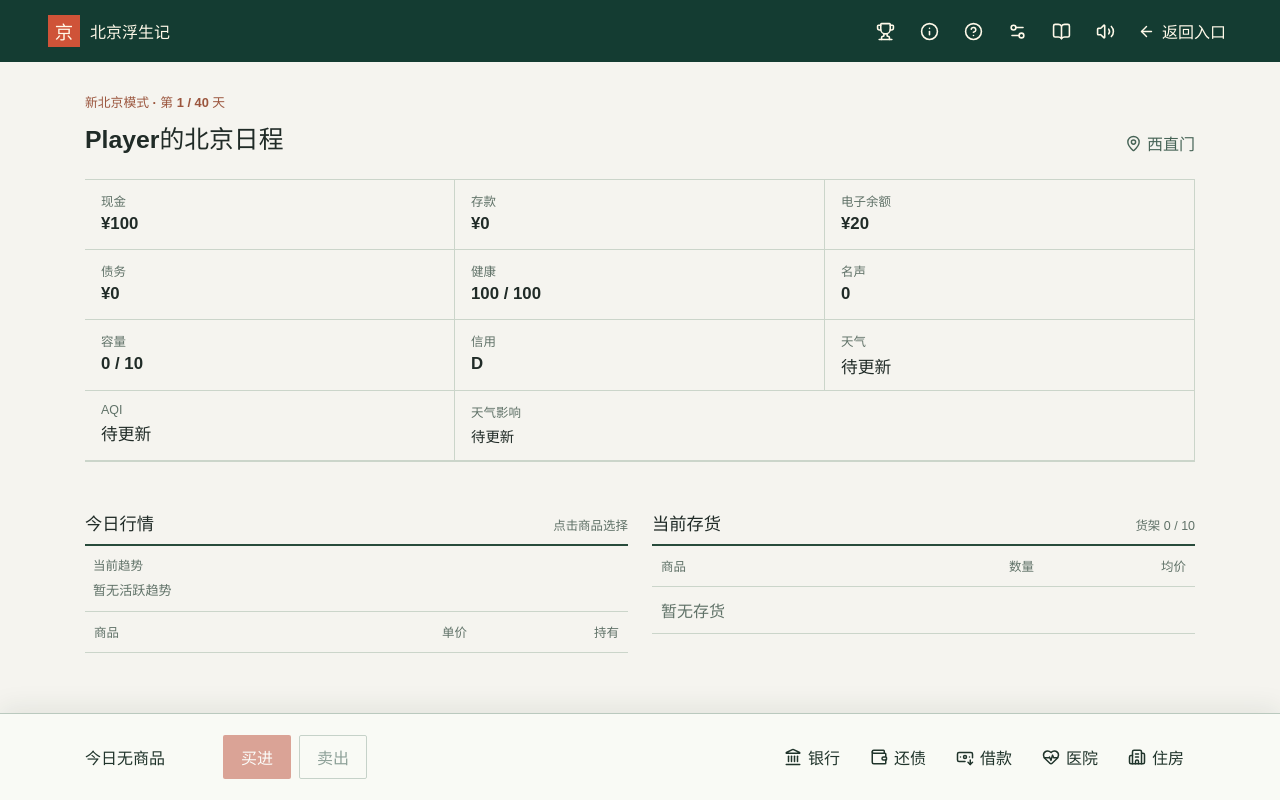
ServiceDialog › transfers accounts and reports rejected transfers
This screenshot has width=1280, height=800.
Click the button "银行": coordinates (812, 757) [773, 735, 851, 779]
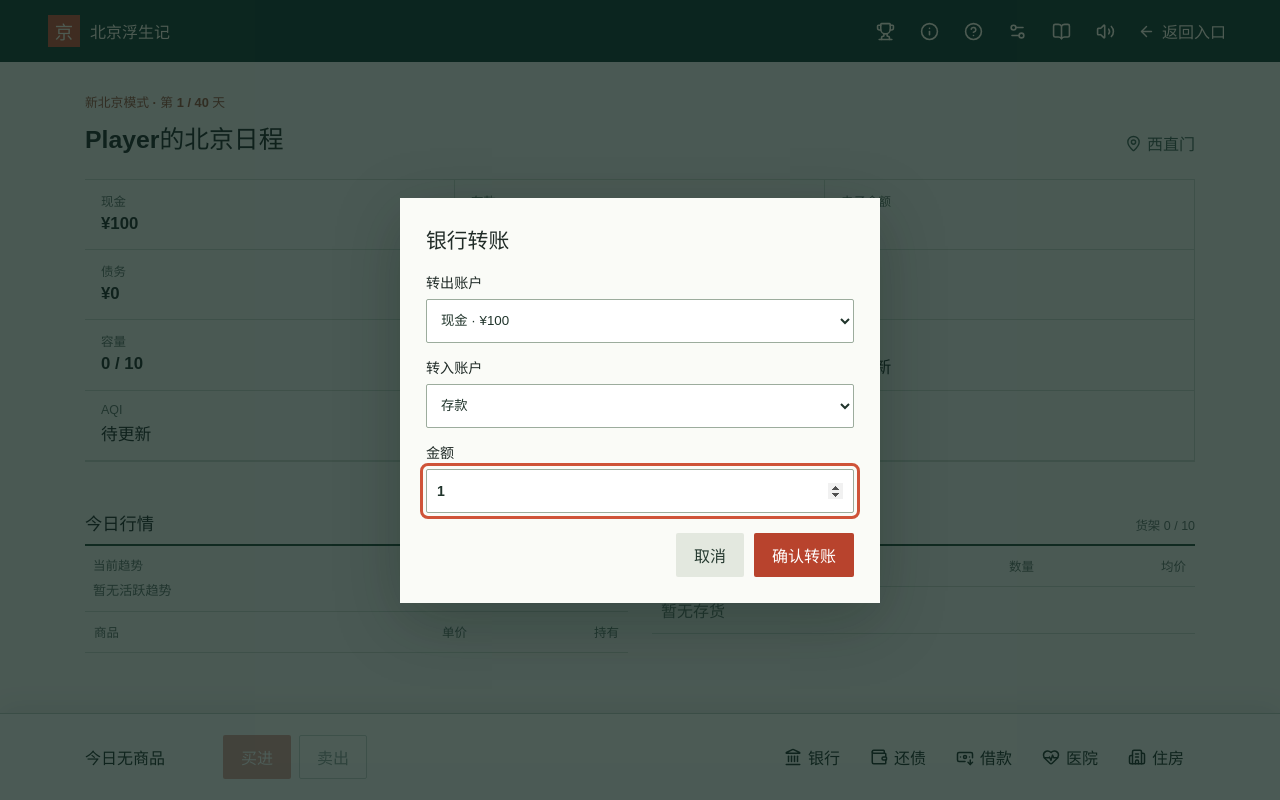
Select "现金 · ¥100" in the dropdown labelled "转出账户": coordinates (640, 320) [426, 298, 854, 342]
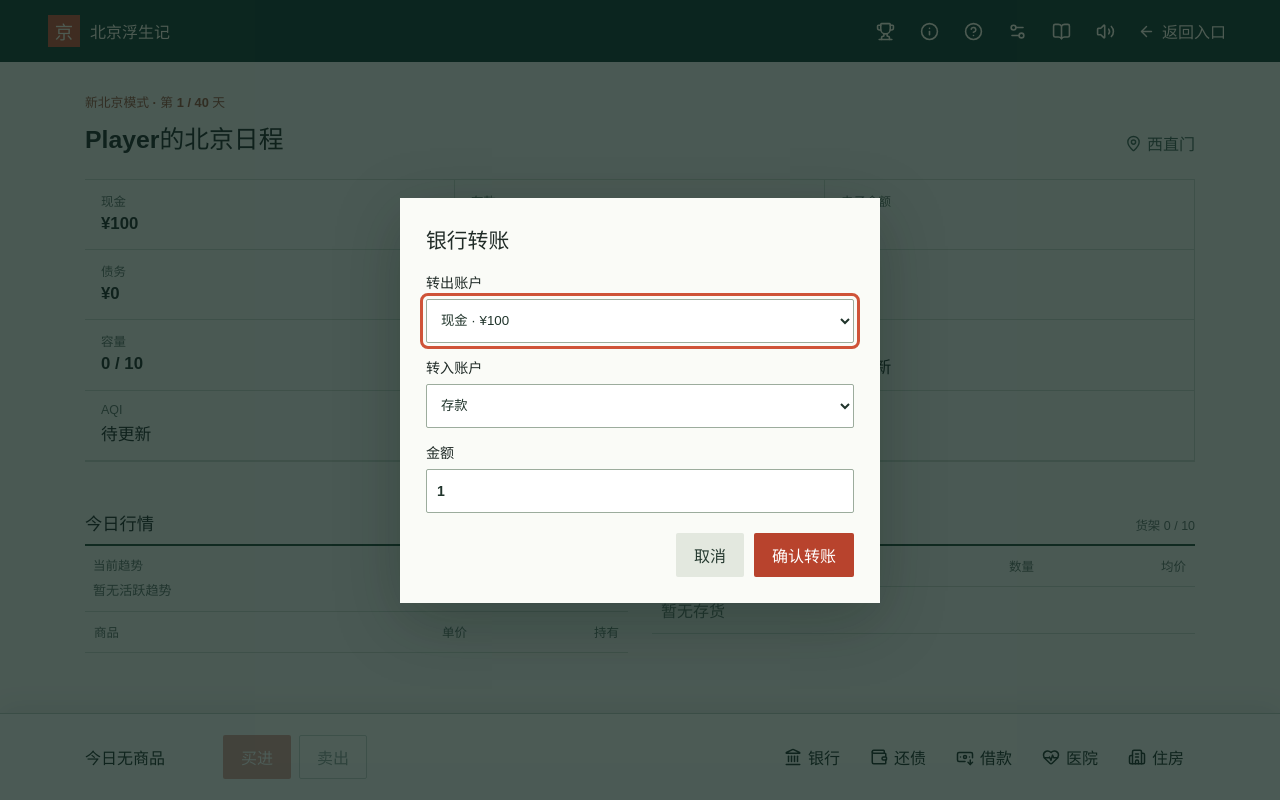
Select "存款" in the dropdown labelled "转入账户": coordinates (640, 406) [426, 384, 854, 428]
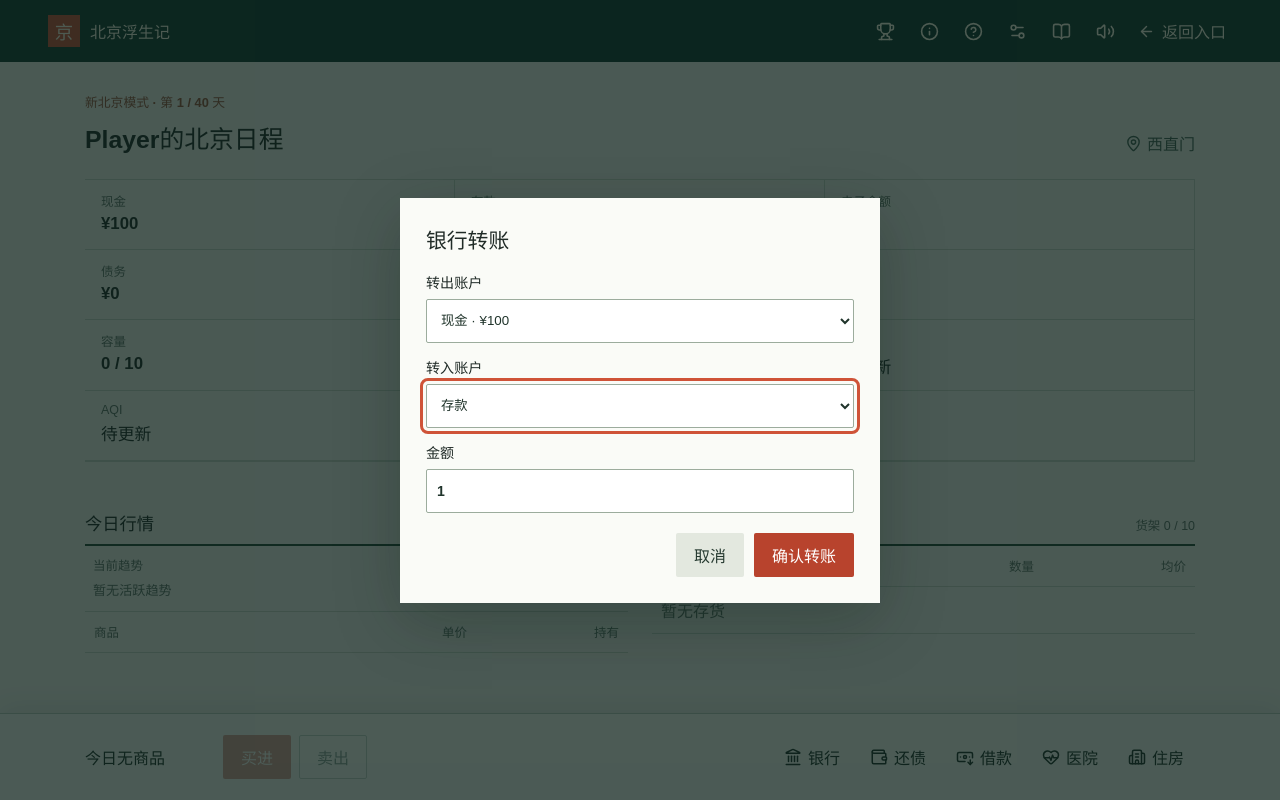
Replace the text in the number field labelled "金额" with "200": coordinates (640, 490) [426, 468, 854, 512]
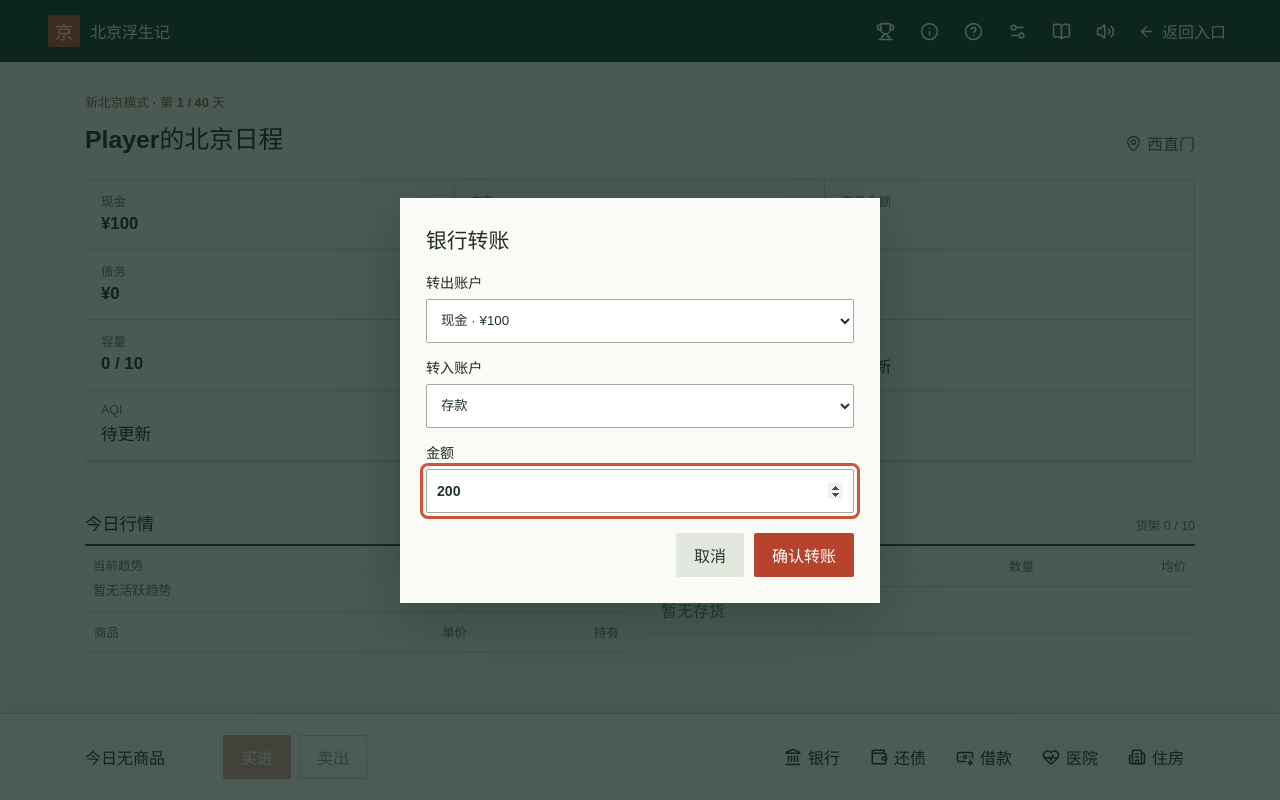
Click the button "确认转账": coordinates (804, 554) [754, 532, 854, 576]
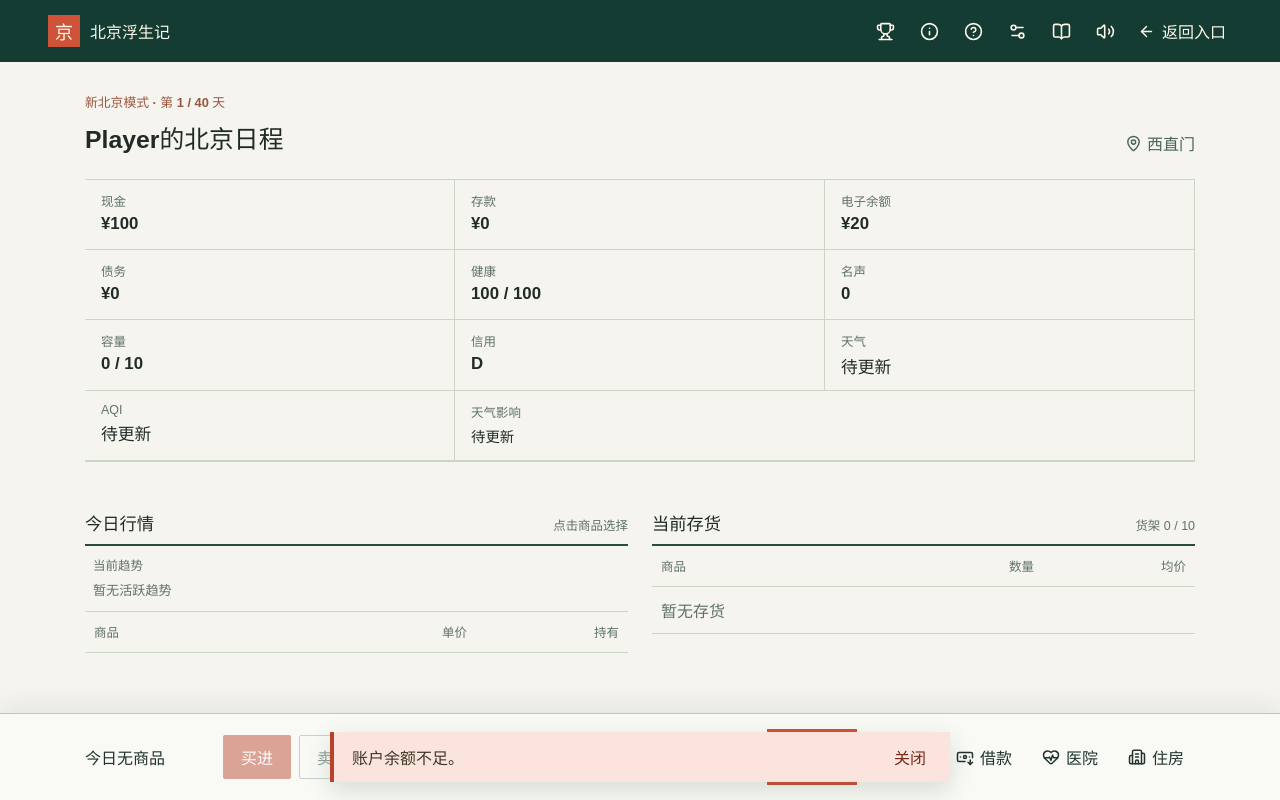
Expected: the text "¥100" is shown, [101, 214, 138, 233]
Now the message shows "余额不足", box [352, 750, 464, 767]
